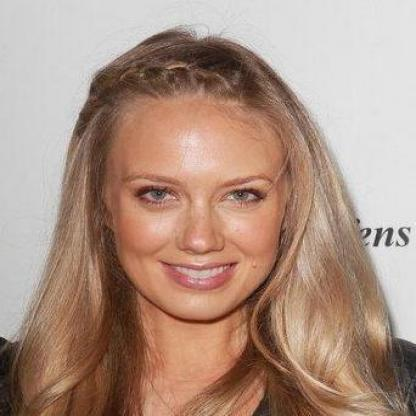long-hair: (17, 322, 401, 383)
